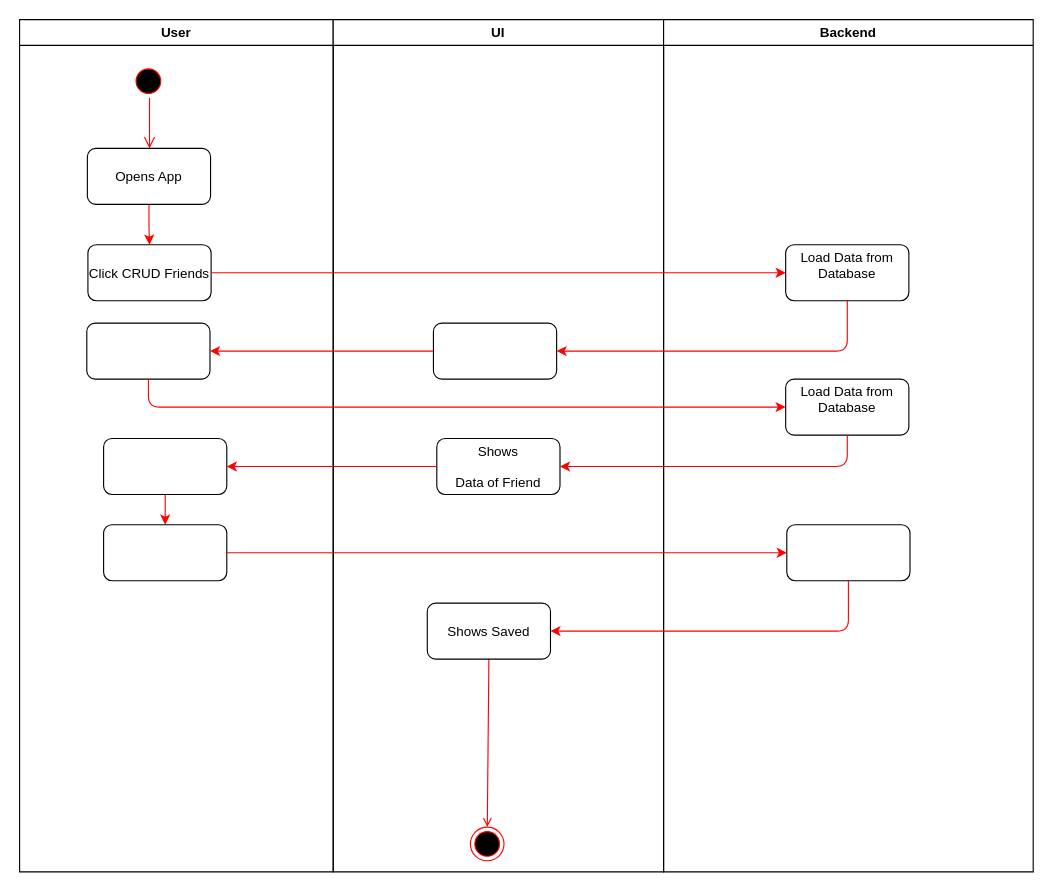
Image size: 1053x892. Some labels were removed from this diagram. The shapes that lost their labels are listed below. From the top down, each one's centre as x and y in pixels, then its label:
(x=148, y=350): Chooses Friend
(x=494, y=350): Shows Users Friends List
(x=164, y=465): Edits / Deletes Friend
(x=164, y=552): Clicks Save
(x=848, y=552): Saves Changes
